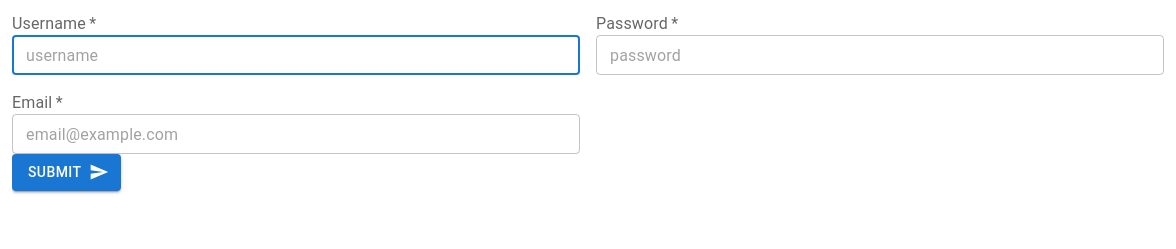
Test: RegisterUserPage Integration Tests › shows generic server error for unexpected status
Type "testUser" into the field labelled "Username *" at (296, 55), box [12, 35, 580, 75]
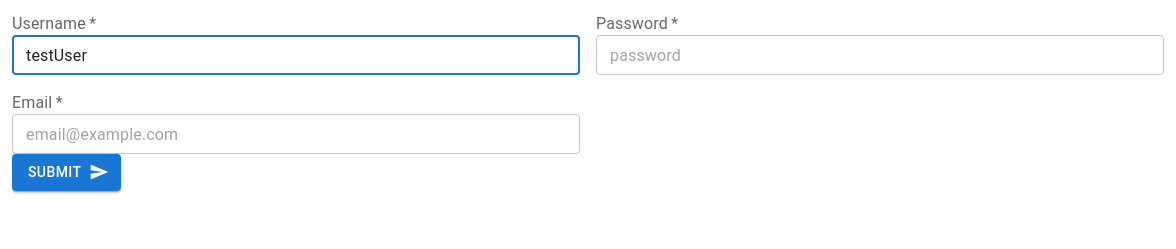
Type "Test@1234" into the password field labelled "Password *" at (880, 55), box [596, 35, 1164, 75]
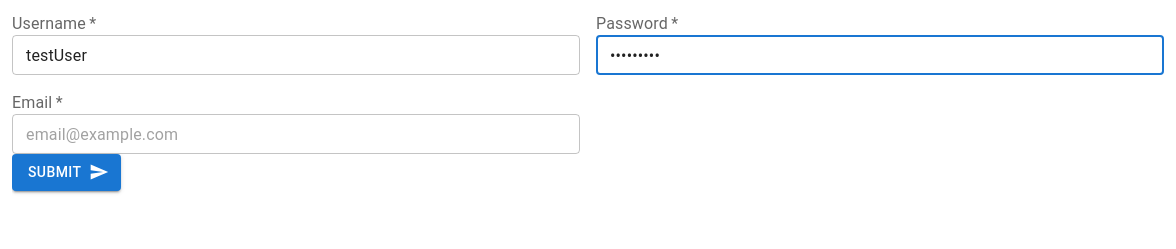
Type "test@example.com" into the field labelled "Email *" at (296, 134), box [12, 114, 580, 154]
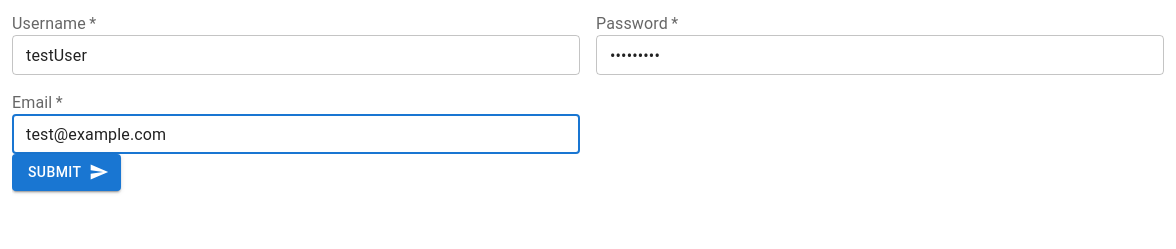
Click the button "Submit" at (67, 172), box [12, 154, 121, 190]
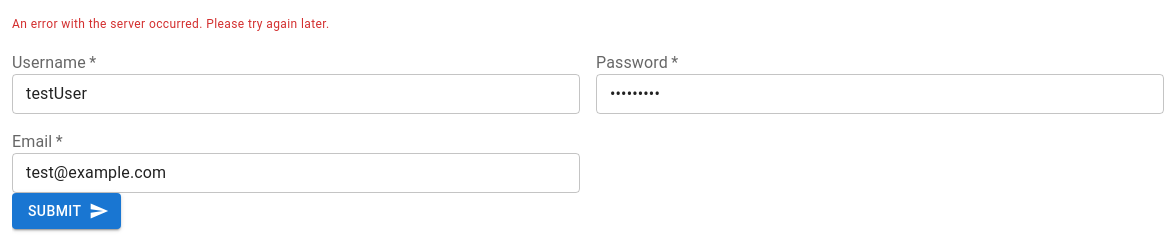
Now the text "An error with the server occurred. Please try again later." is shown, box [12, 17, 330, 31]
